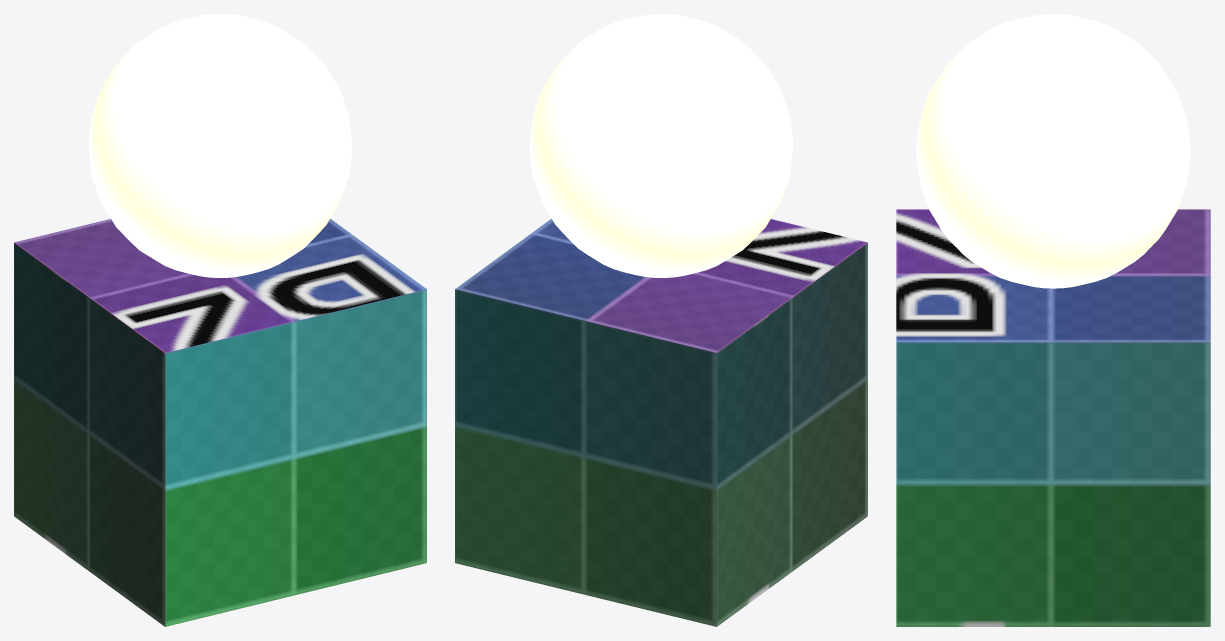
Rendered from lantern.glb.
The picture shows the model from 3 angles, left to right: view 1: azimuth 30°, elevation 25°; view 2: azimuth 150°, elevation 25°; view 3: azimuth 270°, elevation 25°; orthographic projection. The views are drawn at different scales.
Visible parts, largest first — view 1: Base, Bulb; view 2: Base, Bulb; view 3: Base, Bulb.
Part boxes in pixels (x1=…): Base: x1=14, y1=219, x2=426, y2=626; Bulb: x1=88, y1=14, x2=352, y2=277; Base: x1=455, y1=219, x2=867, y2=626; Bulb: x1=529, y1=14, x2=793, y2=277; Base: x1=896, y1=209, x2=1210, y2=626; Bulb: x1=916, y1=14, x2=1190, y2=288.
Size of the model in its own units: 0.8 by 1.5 by 0.8.
2 materials, 1 textured.
